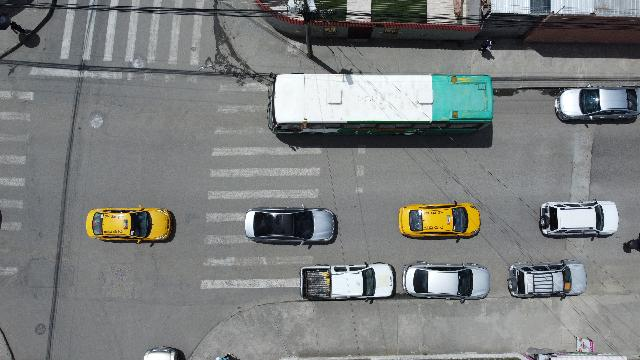Vehiculo: (300, 262, 396, 302), (245, 205, 338, 245), (402, 262, 490, 302), (86, 206, 172, 244), (539, 199, 619, 239), (507, 260, 587, 300), (554, 86, 640, 122), (399, 202, 481, 238), (143, 346, 185, 360)
